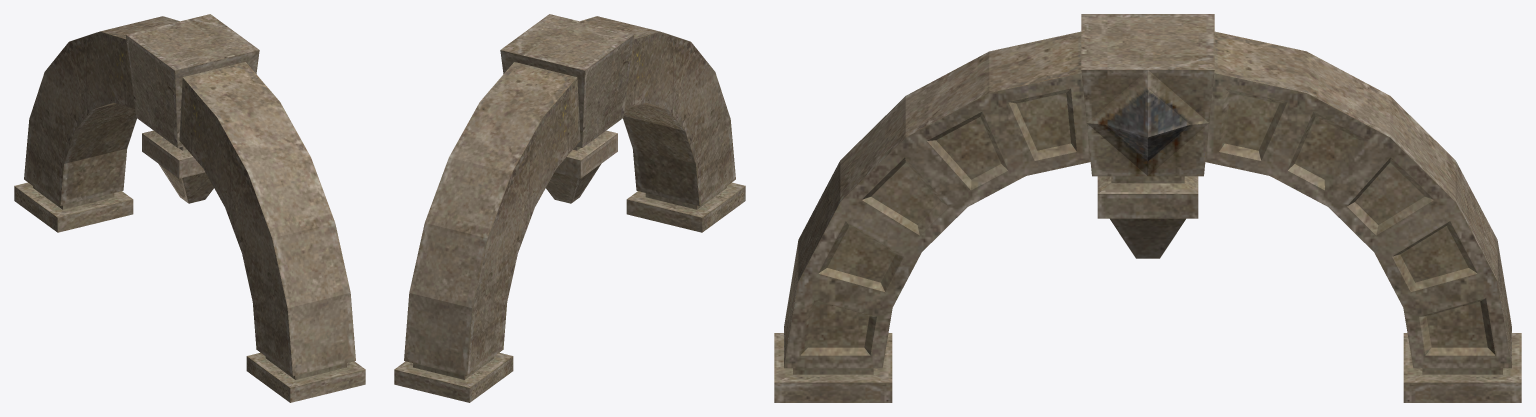
Rendered from bg_lut_lutomb_arch05_sm_old.FBX.
3 renders of one model, left to right at view 1: azimuth 30°, elevation 25°; view 2: azimuth 150°, elevation 25°; view 3: azimuth 270°, elevation 25°, orthographic. The views are drawn at different scales.
Visible parts, largest first — view 1: bg_lut_lutomb_arch05_sm_old; view 2: bg_lut_lutomb_arch05_sm_old; view 3: bg_lut_lutomb_arch05_sm_old.
Part boxes in pixels (bbox=[...]): bg_lut_lutomb_arch05_sm_old: bbox=[14, 14, 365, 402]; bg_lut_lutomb_arch05_sm_old: bbox=[394, 14, 745, 402]; bg_lut_lutomb_arch05_sm_old: bbox=[774, 14, 1521, 402].
Bounding box in the file's own units: 57.17 × 132 × 265.
